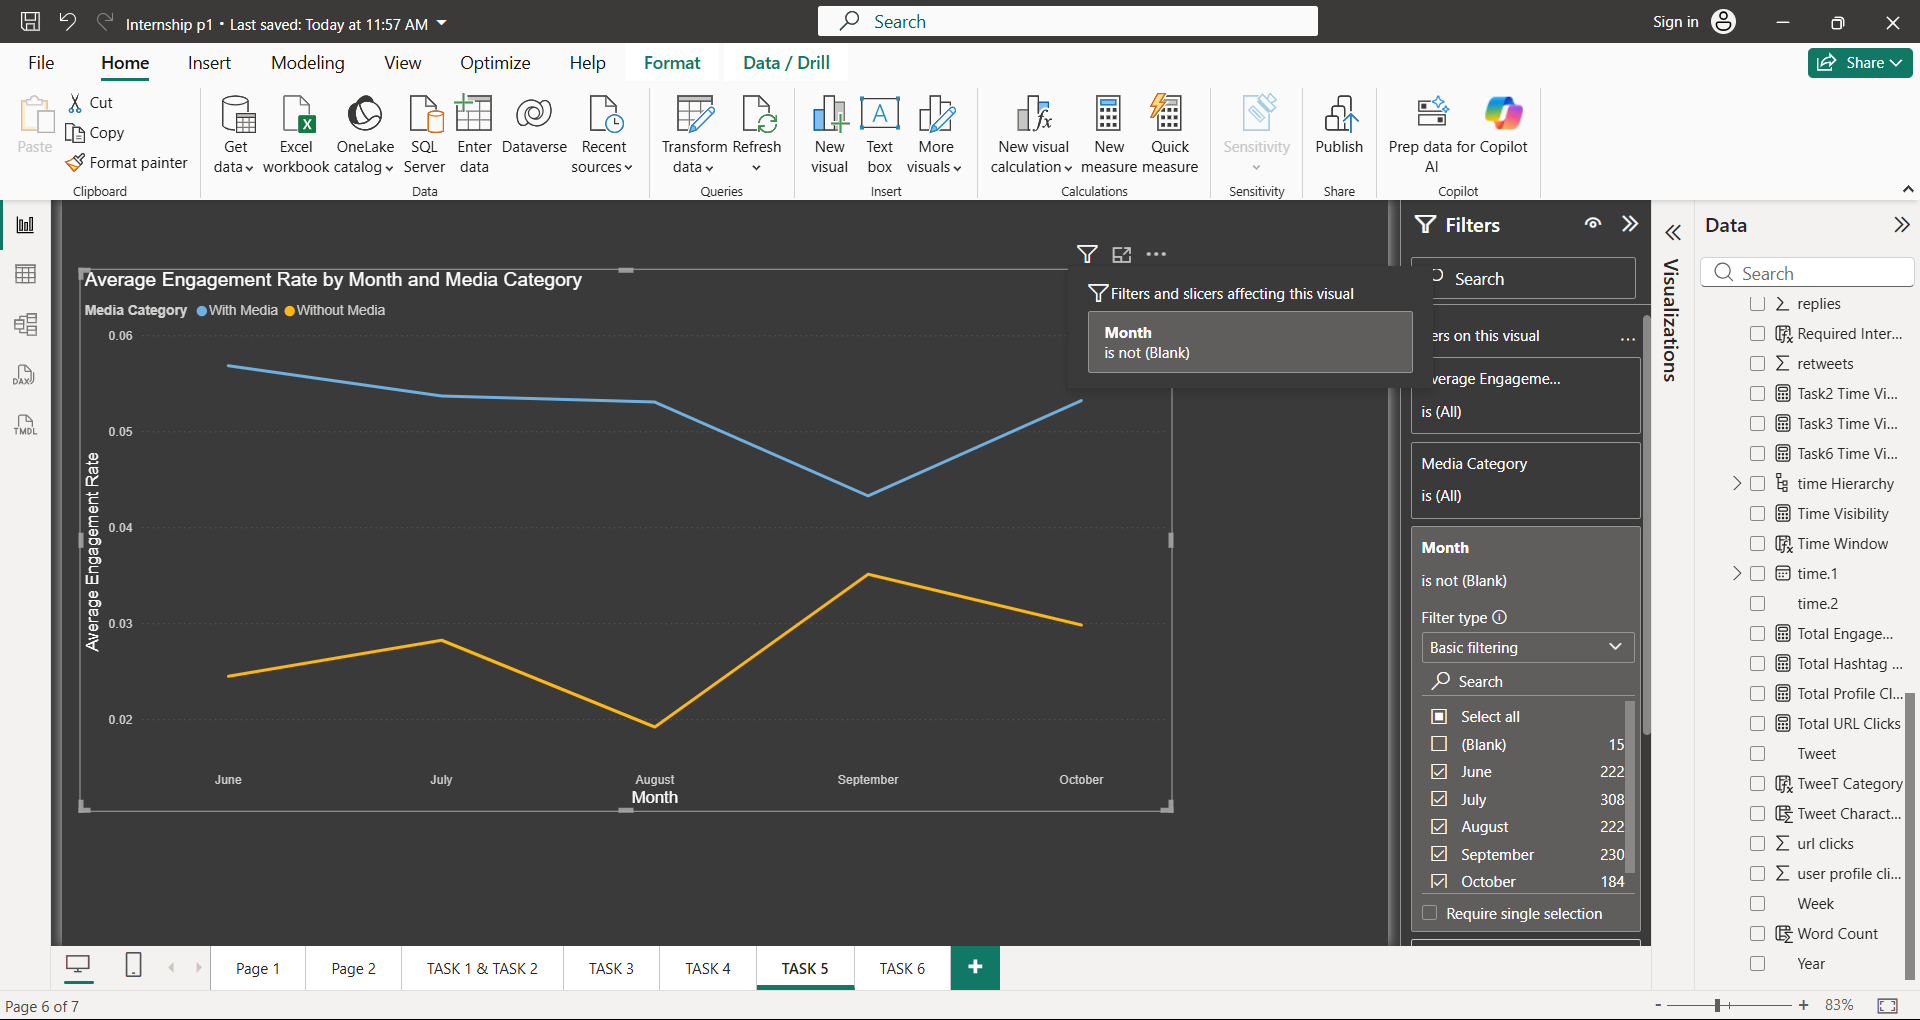

The page's visual inventory and layout, read from the dashboard file:
{"tool":"powerbi","page":{"name":"TASK 5","canvas":[1280,720],"ordinal":5},"visuals":[{"type":"lineChart","fields":{"Category":["SocialMedia (1).Month"],"Y":["SocialMedia (1).Average Engagement Rate"],"Series":["SocialMedia (1).Media Category"]},"box":[9.7,0,1054.4,523.6],"z":0}]}

Visuals, with their boxes on the page's 1280x720 design canvas (x1, y1, x2, y2). These are canvas units, not pixel positions in the 1920x1020 screenshot, which may show the page scaled, cropped or inside an application window:
lineChart - SocialMedia (1).Month x SocialMedia (1).Average Engagement Rate: BBox(10, 0, 1064, 524)
